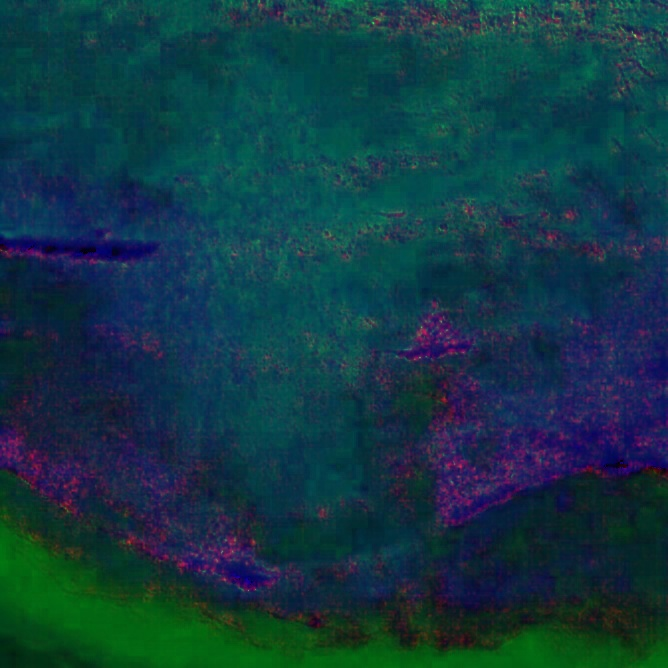rip_current: (154, 160, 514, 593)
